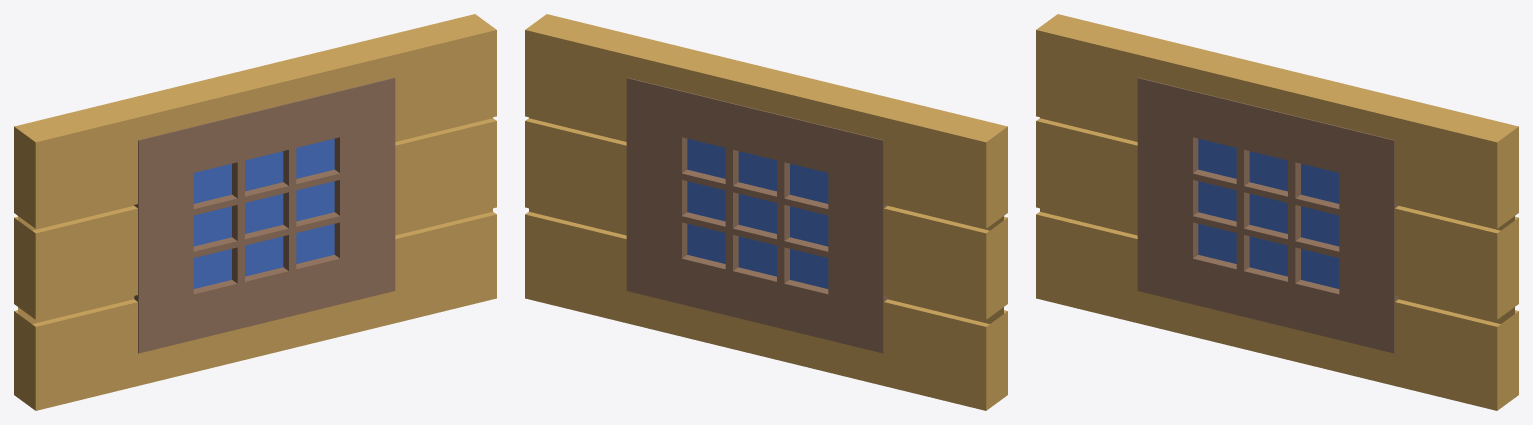
File: Window01_house5.fbx
3 renders of one model, left to right at view 1: azimuth 30°, elevation 25°; view 2: azimuth 150°, elevation 25°; view 3: azimuth 330°, elevation 25°, orthographic.
Visible parts, largest first — view 1: Window01_house05; view 2: Window01_house05; view 3: Window01_house05.
Boxes of the visible parts, <box> form: Window01_house05: <box>14,14,496,410</box>; Window01_house05: <box>525,14,1007,410</box>; Window01_house05: <box>1036,14,1518,410</box>.
Bounding box in the file's own units: 319 × 177 × 27.43.
